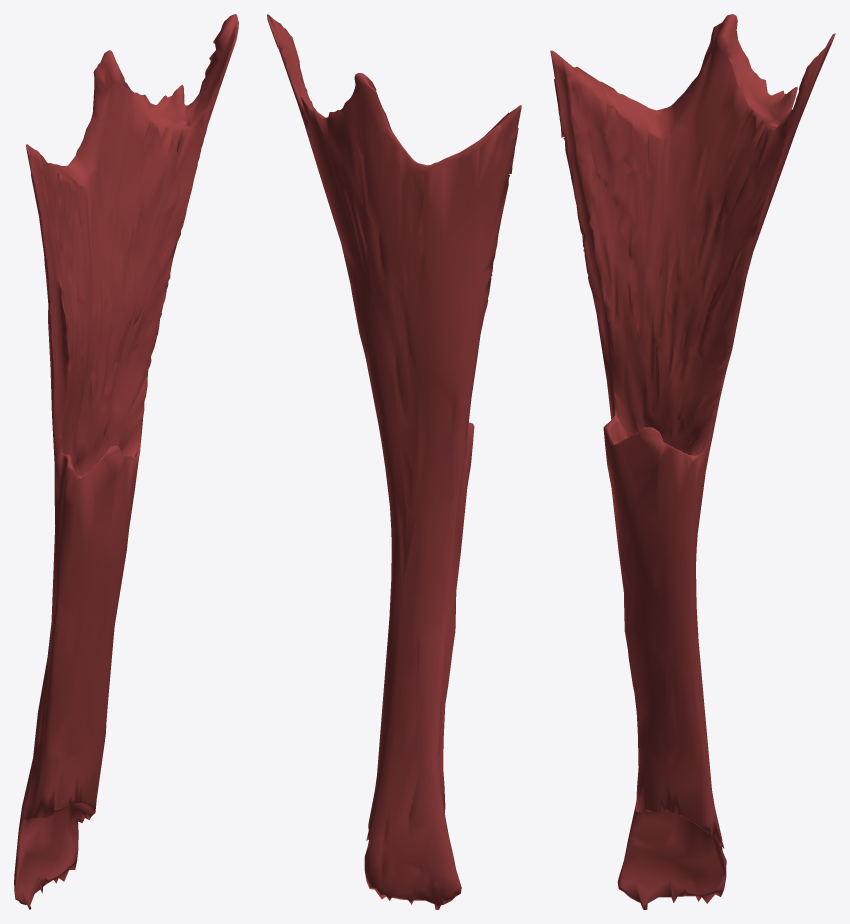
File: calcaneal-tendon-l.glb
The picture shows the model from 3 angles, left to right: view 1: azimuth 30°, elevation 25°; view 2: azimuth 150°, elevation 25°; view 3: azimuth 330°, elevation 25°; orthographic projection. The views are drawn at different scales.
Visible parts, largest first — view 1: Calcaneal tendon.l; view 2: Calcaneal tendon.l; view 3: Calcaneal tendon.l.
Part boxes in pixels (x1,y1,x2,y2): Calcaneal tendon.l: (14, 14, 238, 909); Calcaneal tendon.l: (267, 14, 521, 909); Calcaneal tendon.l: (550, 14, 835, 909).
Bounding box in the file's own units: 0.0631 × 0.2201 × 0.0272.
